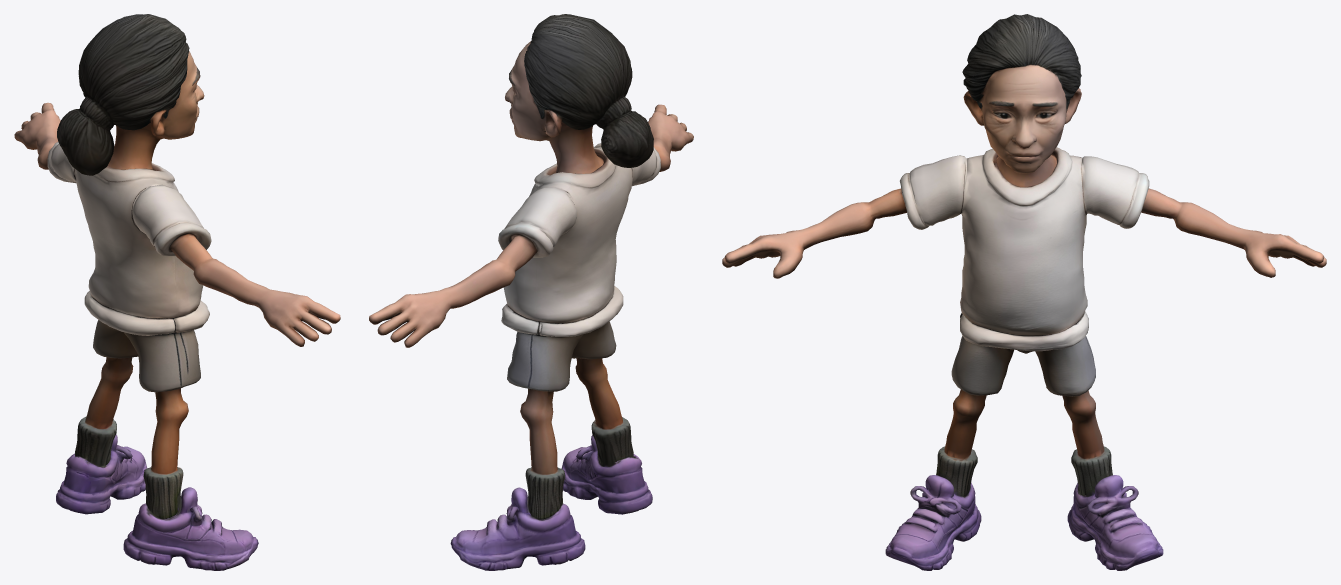
3 renders of one model, left to right at view 1: azimuth 30°, elevation 25°; view 2: azimuth 150°, elevation 25°; view 3: azimuth 270°, elevation 25°, orthographic. The views are drawn at different scales.
Parts seen in each view (by area): view 1: tripo_node_2ccdf076; view 2: tripo_node_2ccdf076; view 3: tripo_node_2ccdf076.
Part boxes in pixels (x1=…): tripo_node_2ccdf076: x1=14, y1=14, x2=340, y2=570; tripo_node_2ccdf076: x1=369, y1=14, x2=693, y2=570; tripo_node_2ccdf076: x1=722, y1=14, x2=1326, y2=570.
Size of the model in its own units: 0.2798 by 0.9628 by 1.
1 material, 1 textured.
